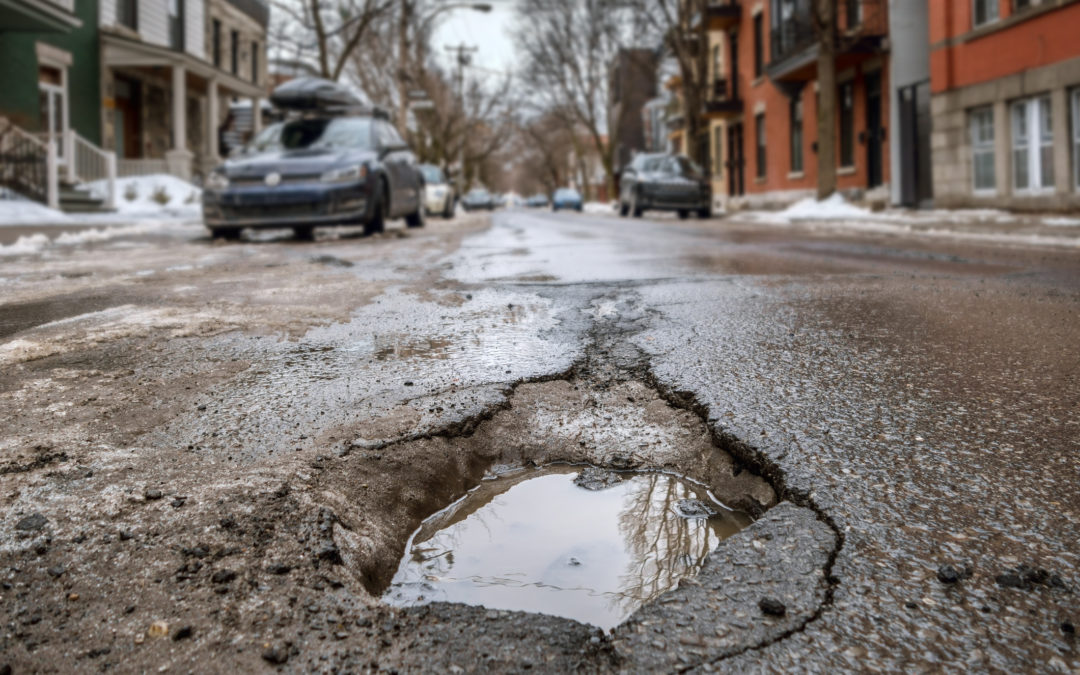pothole: (346, 308, 838, 646)
